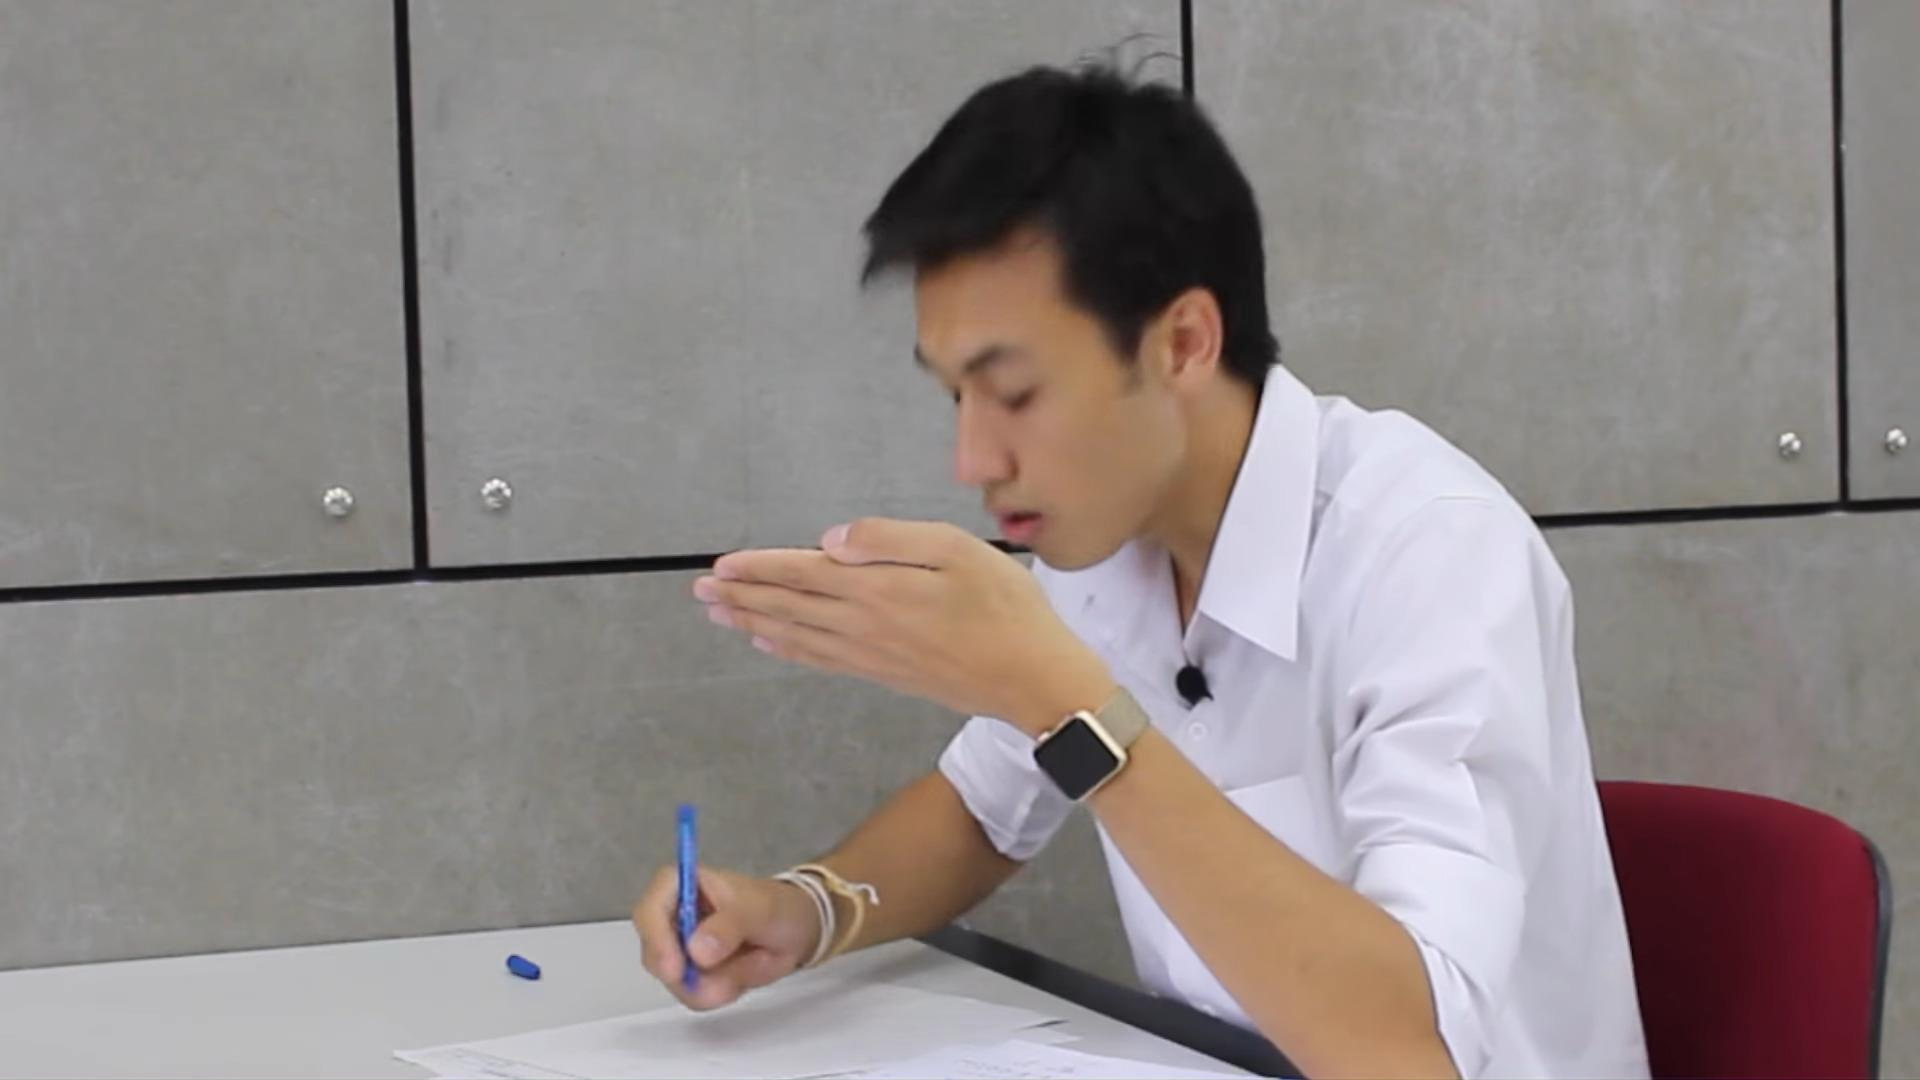cheating: (365, 11, 1673, 1080)
